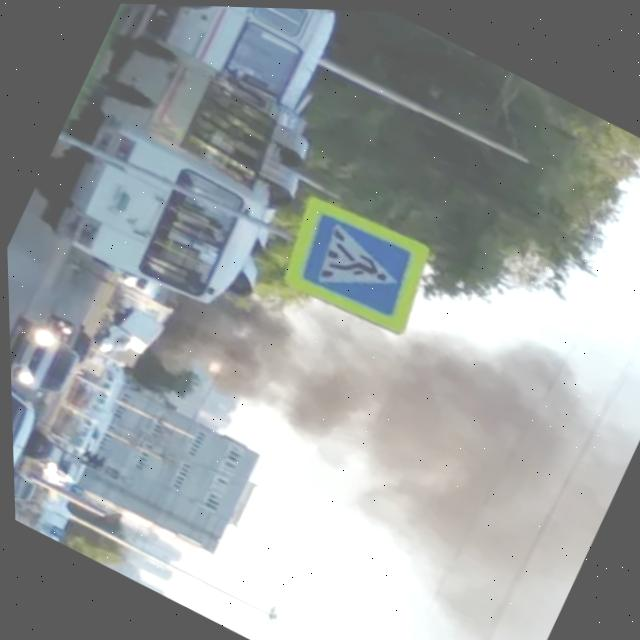Smoke: (136, 203, 640, 640)
